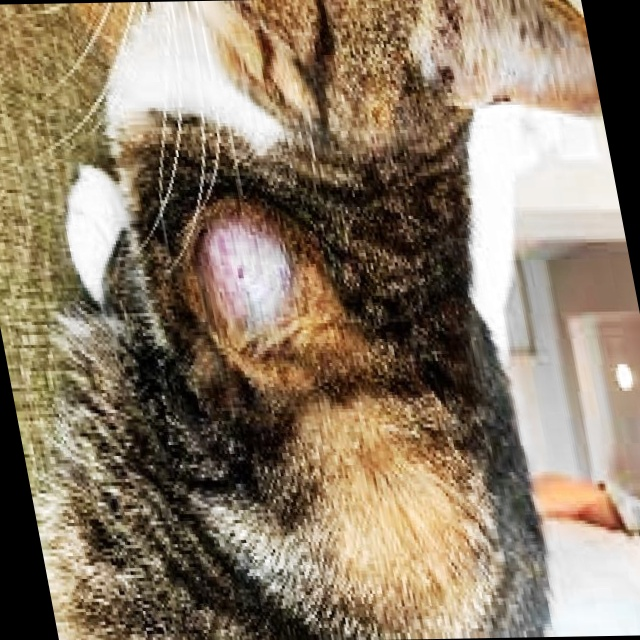lump_and_bump: (191, 211, 300, 332)
